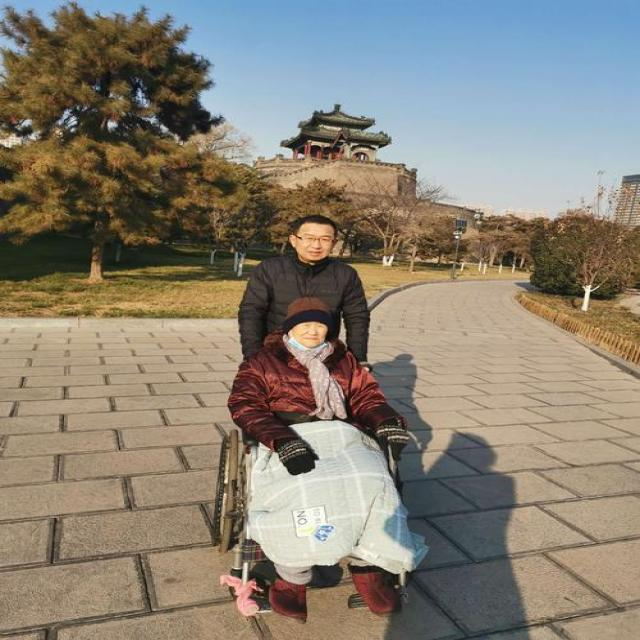wheelchairs: (184, 397, 434, 621)
